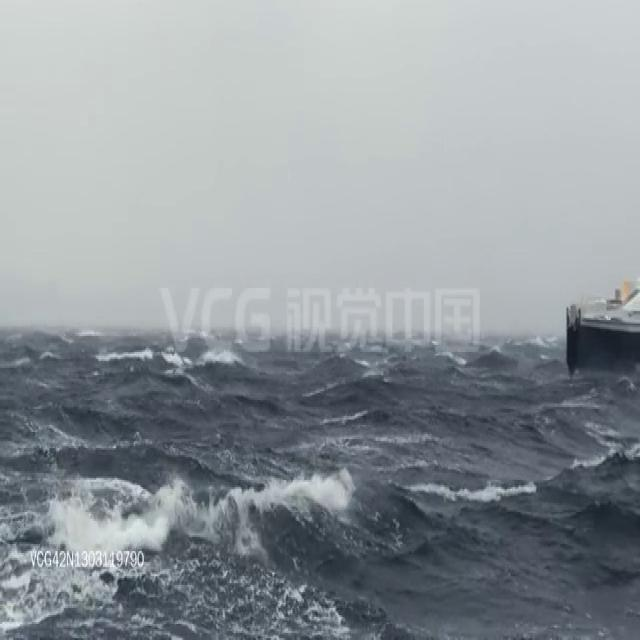passenger ship: (557, 268, 640, 373)
